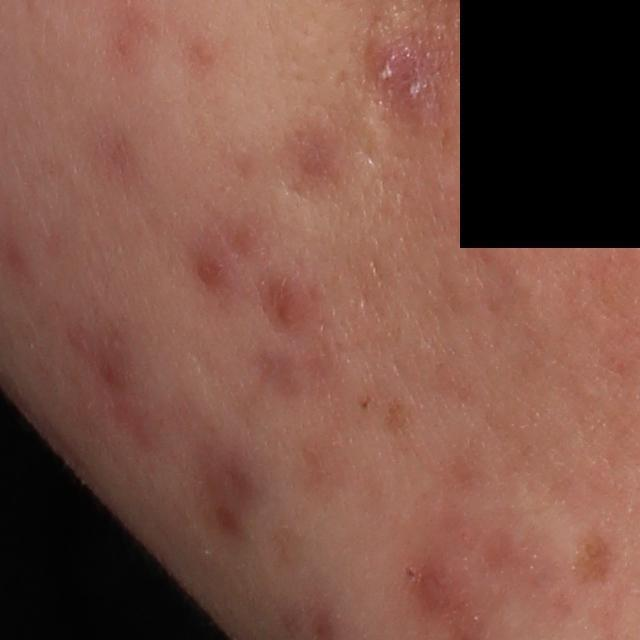papule: (407, 560, 466, 626), (192, 251, 230, 293)
